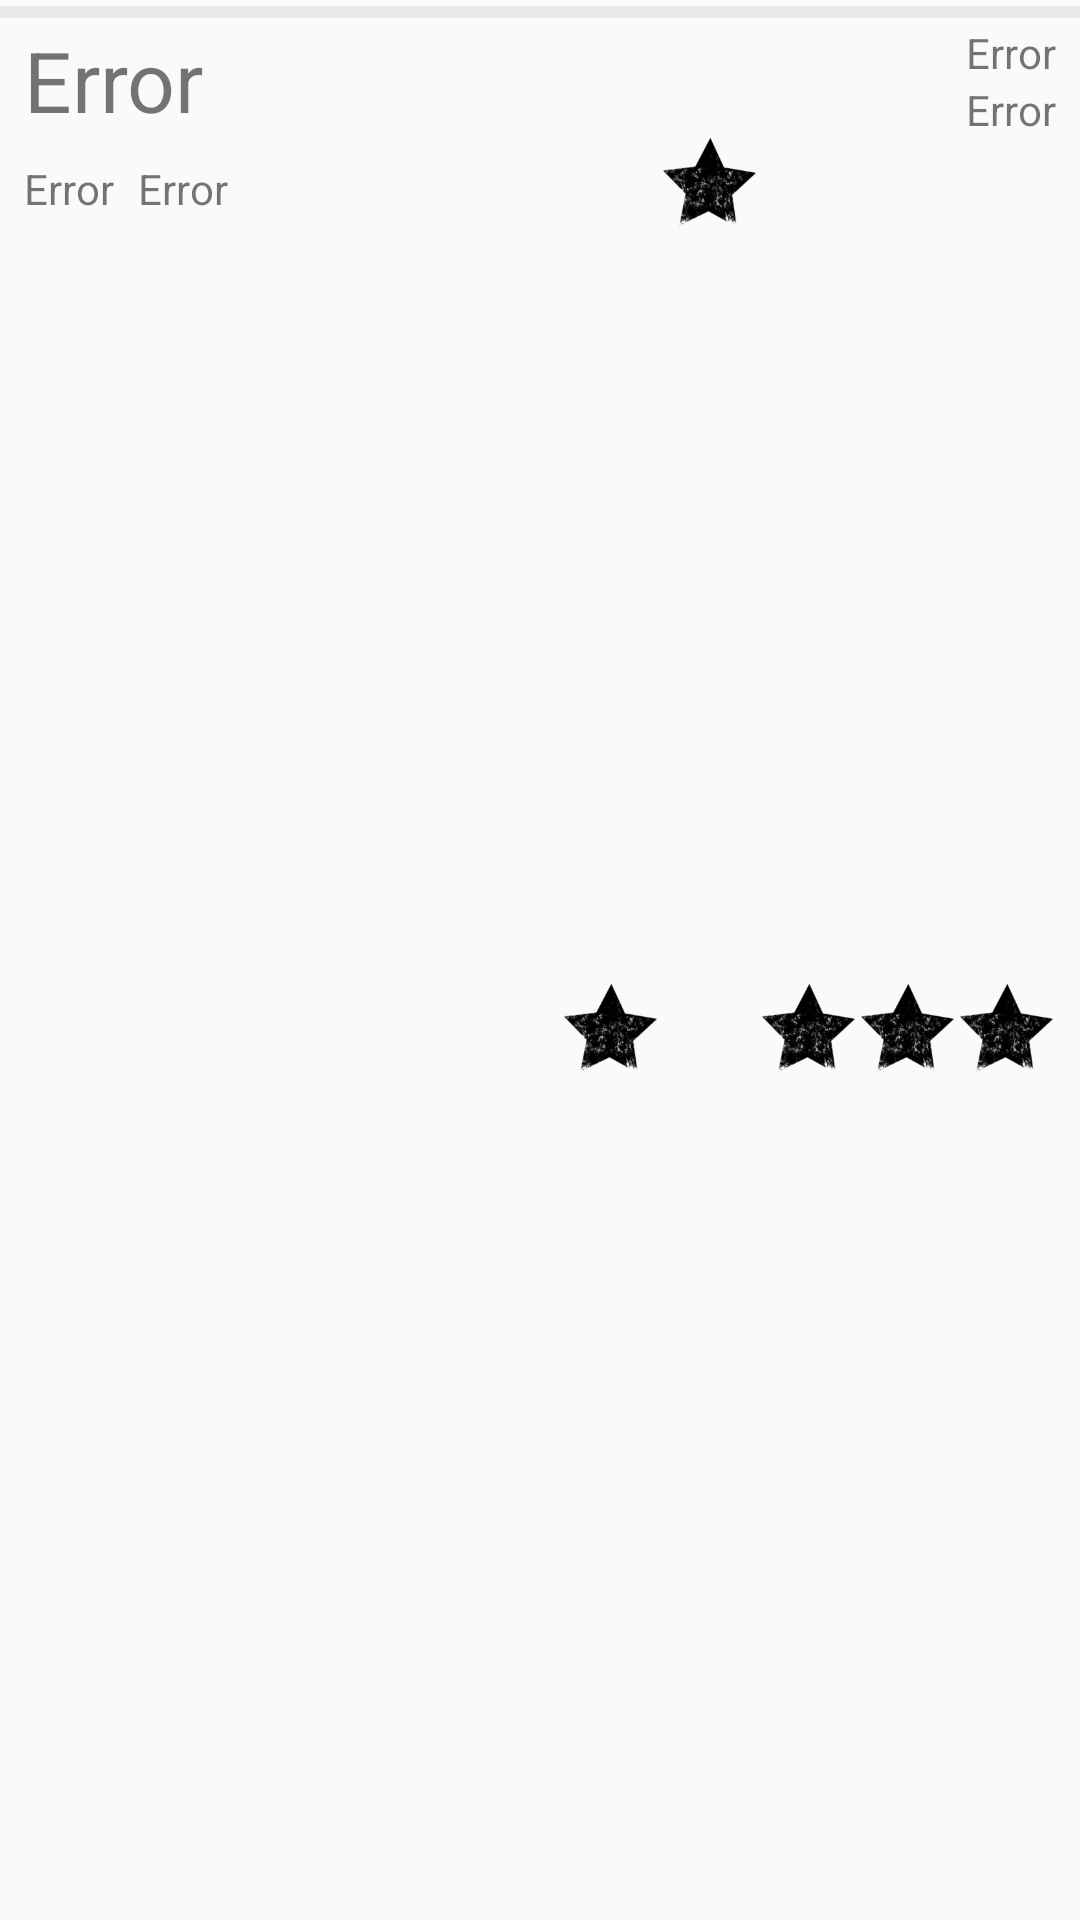

Named icons in this screenshot (1080 x 1920) and their centers, (x,y):
star full: (709,182), (610,1028), (808,1028), (907,1028), (1006,1028)
